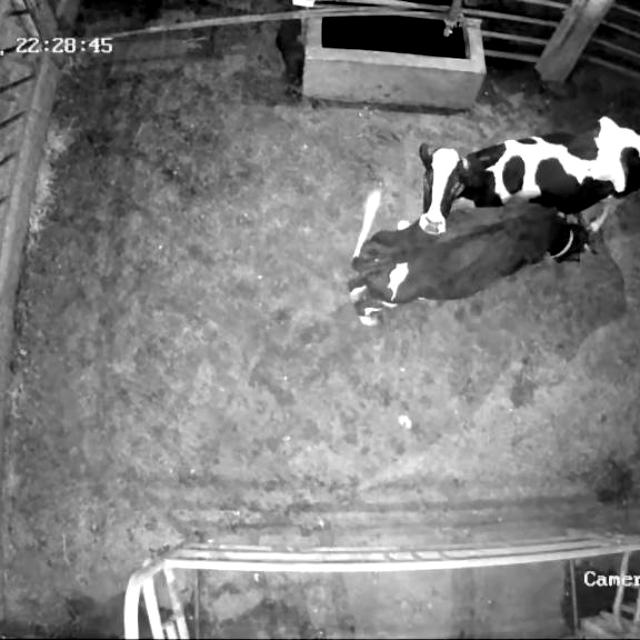propping: (396, 122, 490, 274)
